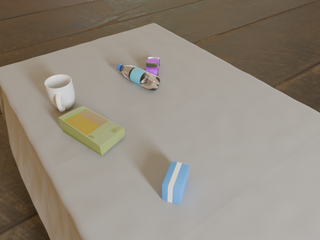book: (59, 106, 125, 155)
bottle: (117, 64, 160, 91)
box: (162, 161, 189, 204)
cup: (45, 75, 75, 112)
toy_car: (145, 57, 160, 75)
